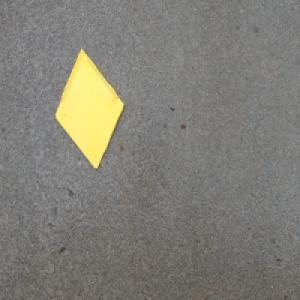PlasticPart: (54, 48, 124, 171)
